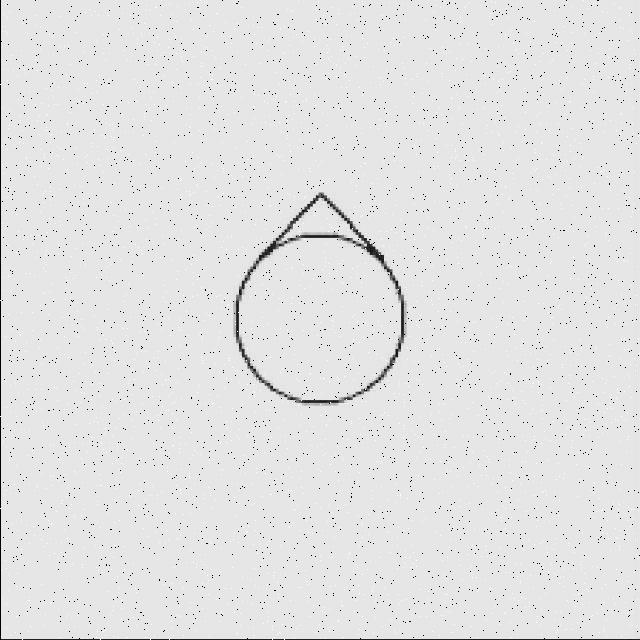Rotameter: (170, 158, 440, 440)
